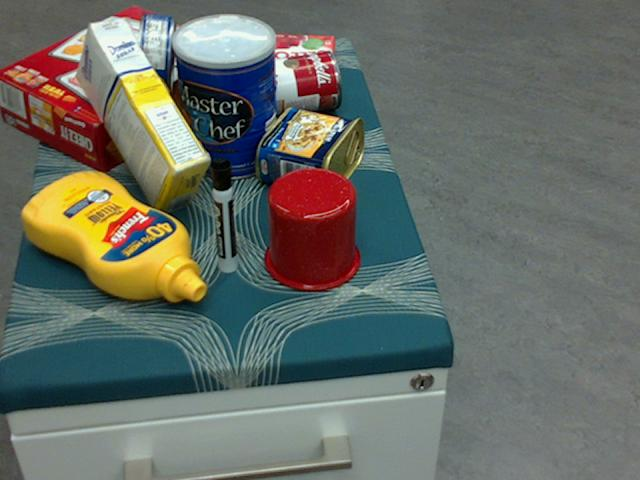cracker_box: (0, 8, 233, 173)
gelatin_box: (259, 35, 334, 81)
large_marker: (209, 156, 236, 271)
master_chef_can: (172, 13, 278, 179)
mug: (261, 166, 359, 290)
mustard_bottle: (21, 172, 205, 301)
potted_meat_can: (255, 105, 364, 201)
sugar_box: (76, 18, 212, 214)
tomato_soup_can: (242, 49, 341, 119)
tuna_fish_can: (136, 11, 174, 97)
